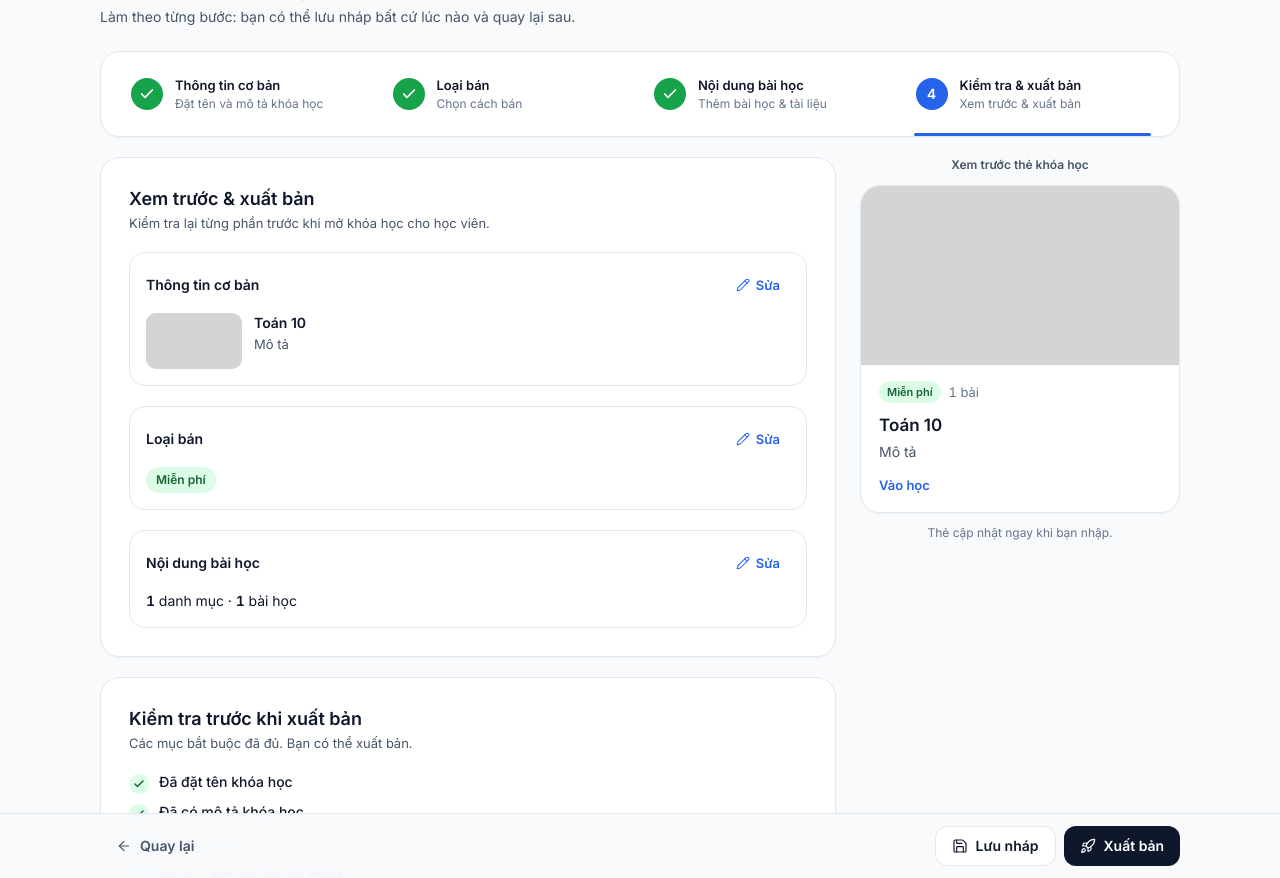
Test: StudioCourseWizard - review and publish › publishes a free course through POST /courses/{id}/publish
The image size is (1280, 878).
(page scrolled)
Click the button "Xuất bản": (1122, 846) top-left (1064, 826), bottom-right (1180, 866)
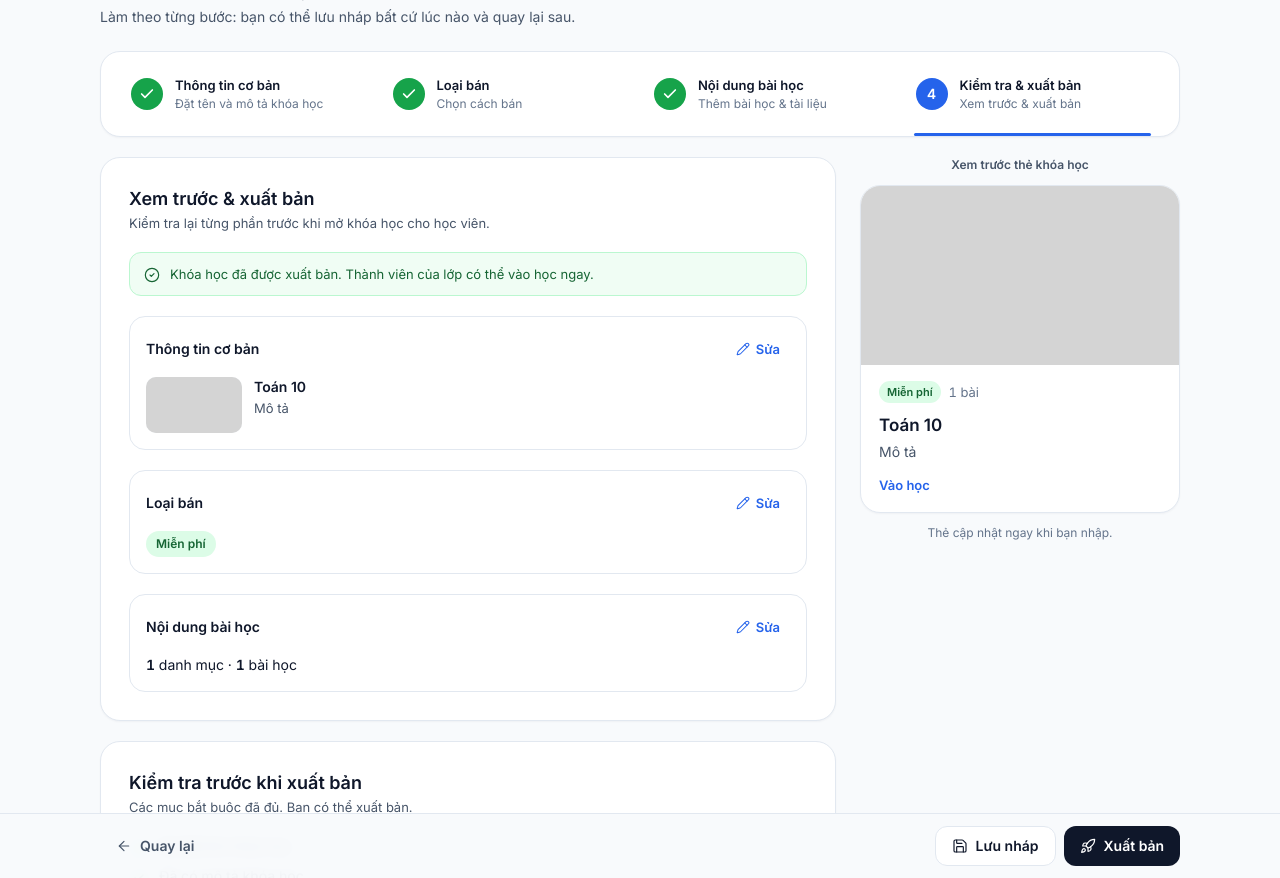
Result: the text "Khóa học đã được xuất bản" is shown at top-left (170, 266), bottom-right (594, 282)
